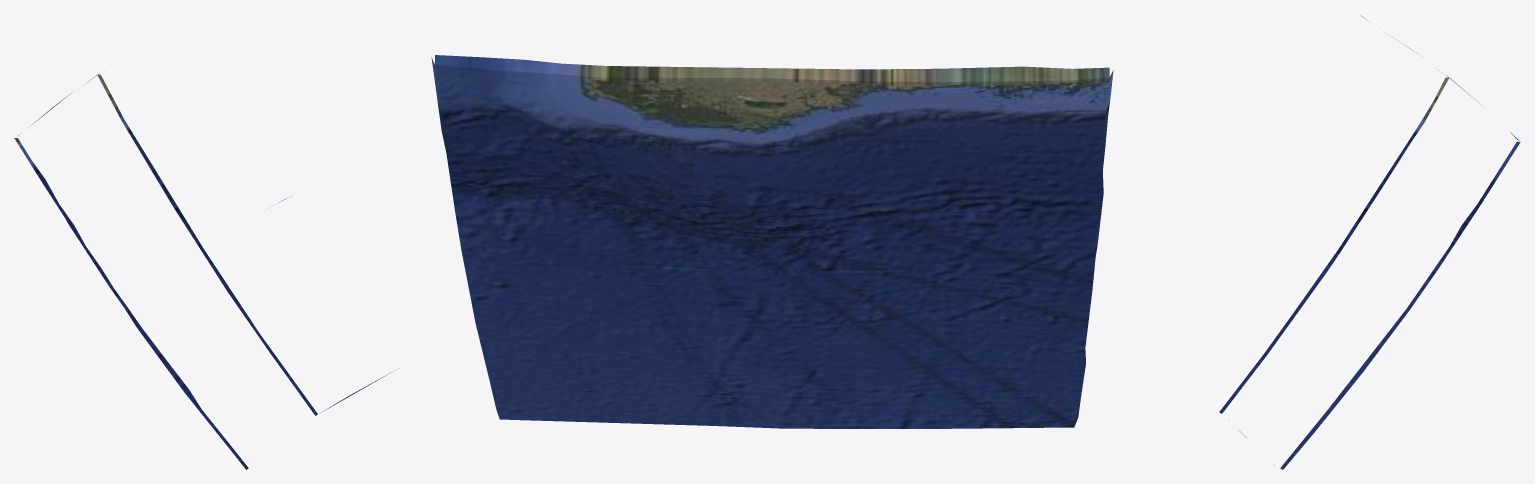
3 views of the same model, side by side, from view 1: azimuth 30°, elevation 25°; view 2: azimuth 150°, elevation 25°; view 3: azimuth 270°, elevation 25° (orthographic). The views are drawn at different scales.
Size of the model in its own units: 1239917 by 983798 by 1165288.
1 material, 1 textured.
